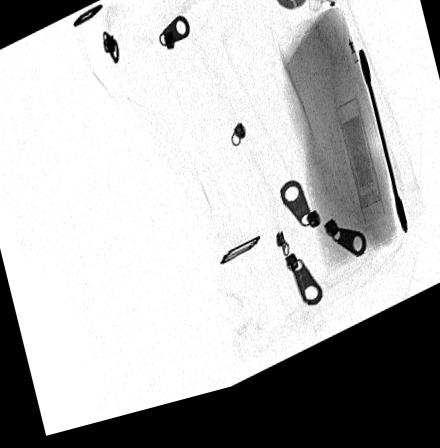Wrench: (355, 66, 408, 256)
